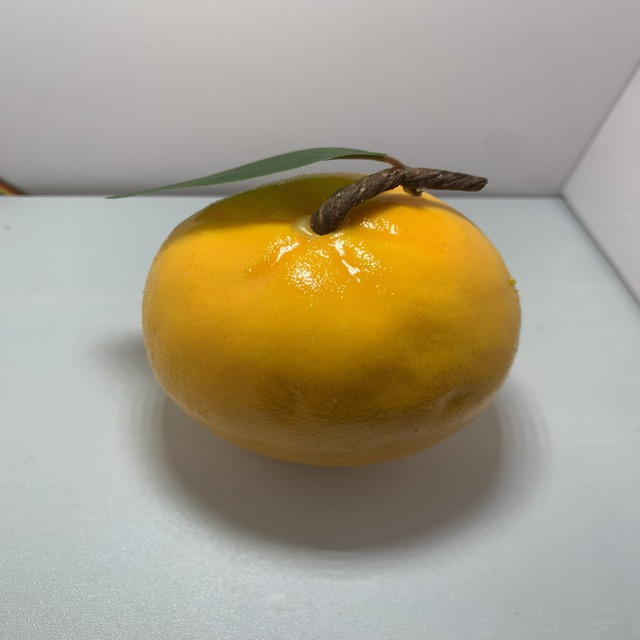Cam vang: (135, 143, 525, 473)
